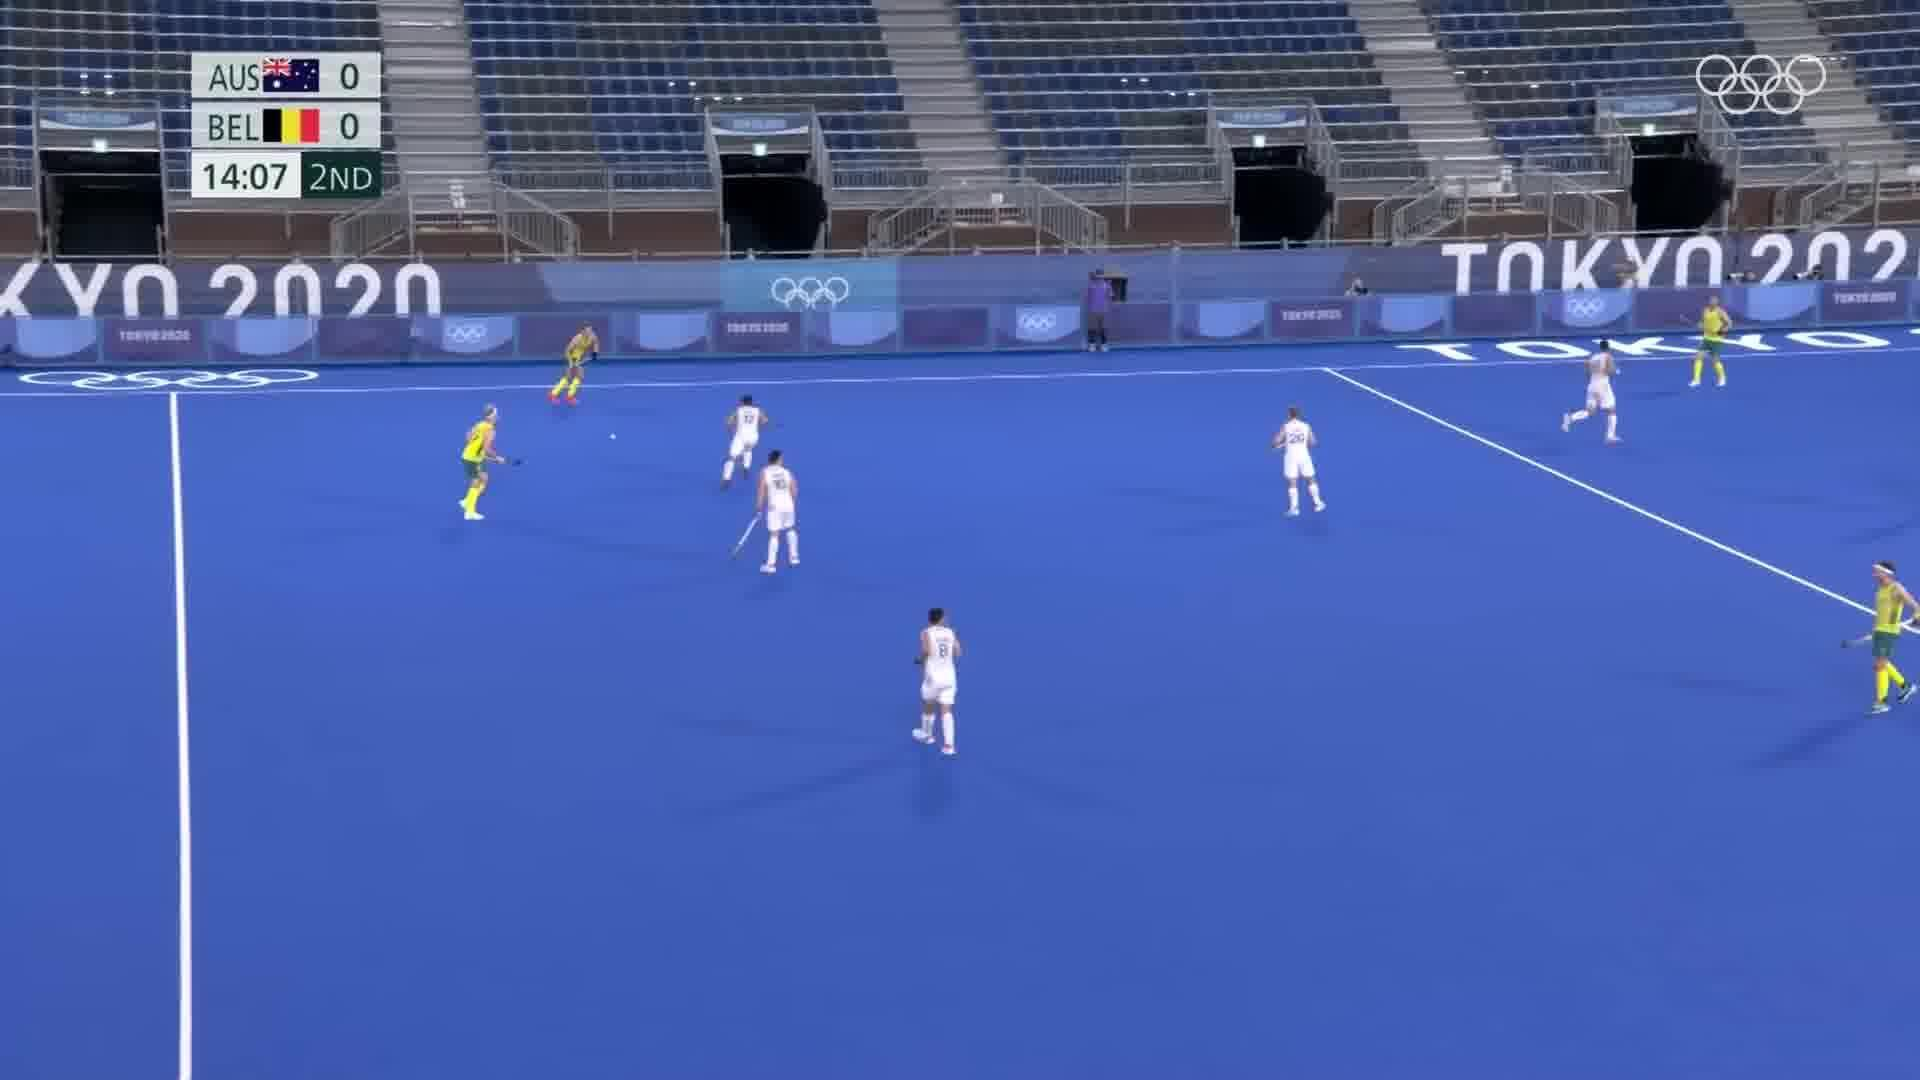ball: (603, 428, 619, 447)
